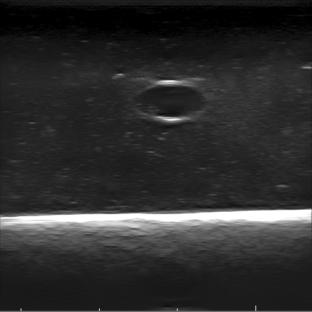vessel: (133, 78, 207, 123)
